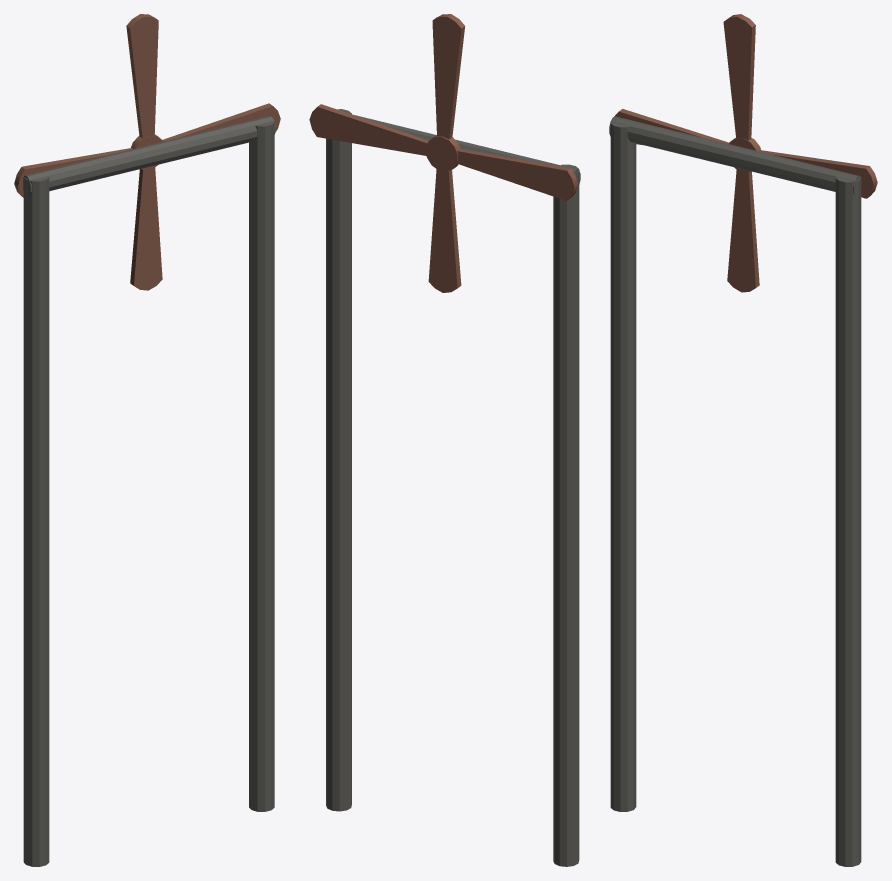
File: Obstacle_mill.fbx
3 views of the same model, side by side, from view 1: azimuth 30°, elevation 25°; view 2: azimuth 150°, elevation 25°; view 3: azimuth 330°, elevation 25° (orthographic).
Parts seen in each view (by area): view 1: Right_frame, Left_frame, RotatingPart, Top_Frame; view 2: Right_frame, Left_frame, RotatingPart, Top_Frame; view 3: Left_frame, Right_frame, RotatingPart, Top_Frame.
Part boxes in pixels (x1=…): Right_frame: x1=23, y1=176, x2=49, y2=866; Left_frame: x1=249, y1=119, x2=274, y2=811; RotatingPart: x1=14, y1=14, x2=280, y2=290; Top_Frame: x1=23, y1=115, x2=275, y2=195; Right_frame: x1=553, y1=164, x2=579, y2=866; Left_frame: x1=326, y1=109, x2=351, y2=811; RotatingPart: x1=309, y1=14, x2=578, y2=292; Top_Frame: x1=353, y1=114, x2=580, y2=185; Left_frame: x1=835, y1=176, x2=861, y2=866; Right_frame: x1=610, y1=122, x2=636, y2=811; RotatingPart: x1=614, y1=14, x2=877, y2=292; Top_Frame: x1=609, y1=116, x2=860, y2=195.
Bounding box in the file's own units: 1099 × 3258 × 97.81.
